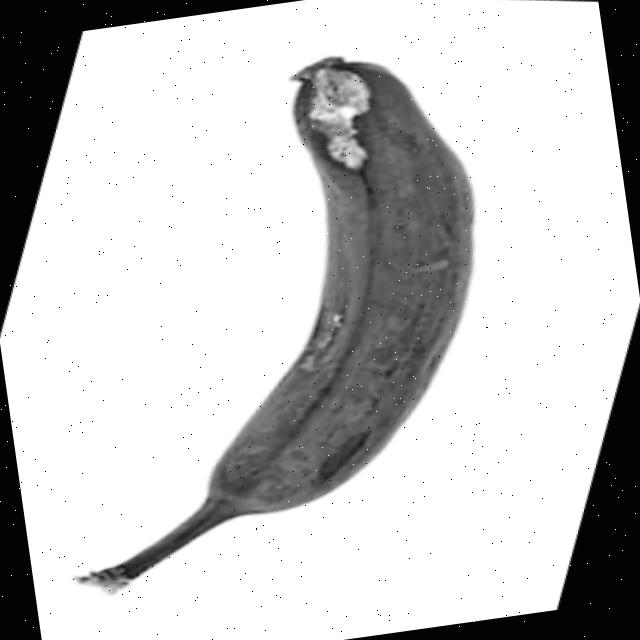Rotten: (10, 39, 522, 596)
